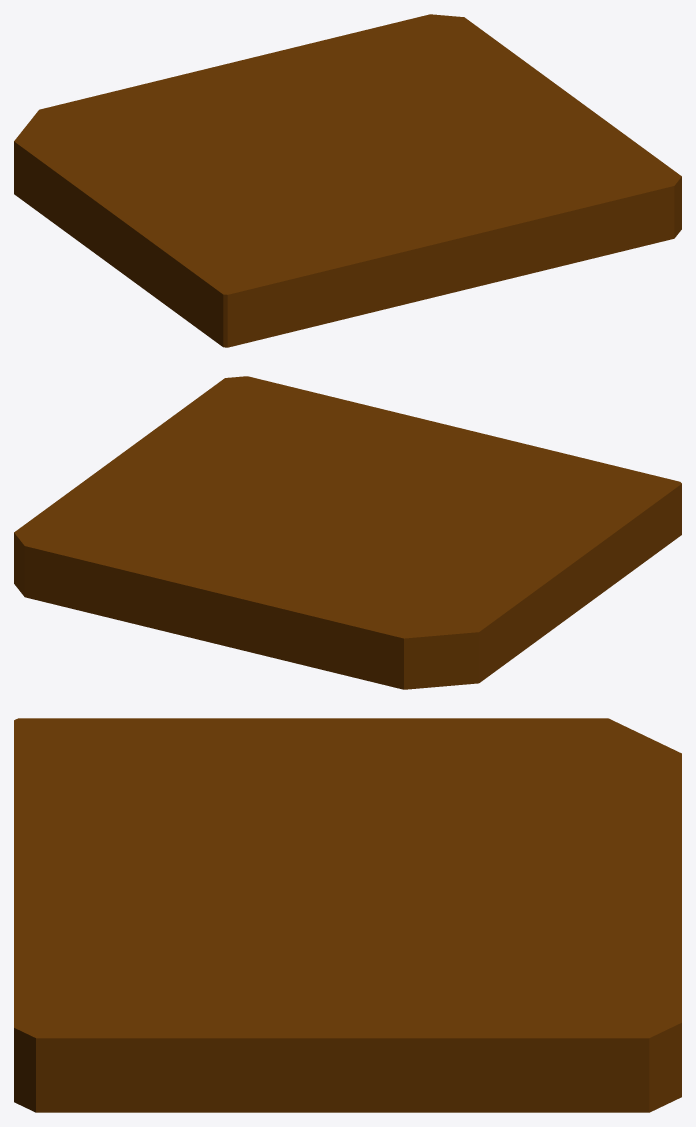
Rendered from plytkla.fbx.
The picture shows the model from 3 angles, top to bottom: view 1: azimuth 30°, elevation 25°; view 2: azimuth 150°, elevation 25°; view 3: azimuth 270°, elevation 25°; orthographic projection. The views are drawn at different scales.
Visible parts, largest first — view 1: Cube; view 2: Cube; view 3: Cube.
Boxes of the visible parts, x1,y1,x2,y2 form: Cube: (14, 14, 681, 347); Cube: (14, 376, 681, 689); Cube: (14, 718, 681, 1112).
Size of the model in its own units: 119 by 12.89 by 105.
